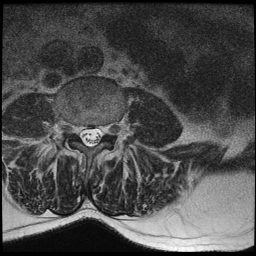CCS_normal: (87, 117, 94, 154)
LFS_normal: (103, 115, 111, 142)
LLS_normal: (94, 118, 103, 147)
RFS_normal: (71, 116, 79, 142)
RLS_normal: (79, 118, 87, 148)
